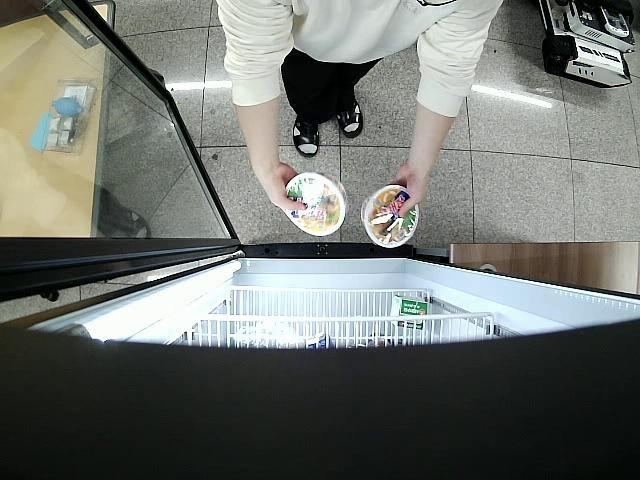09_yukGaeJang: (284, 172, 349, 235), (360, 186, 417, 248)
